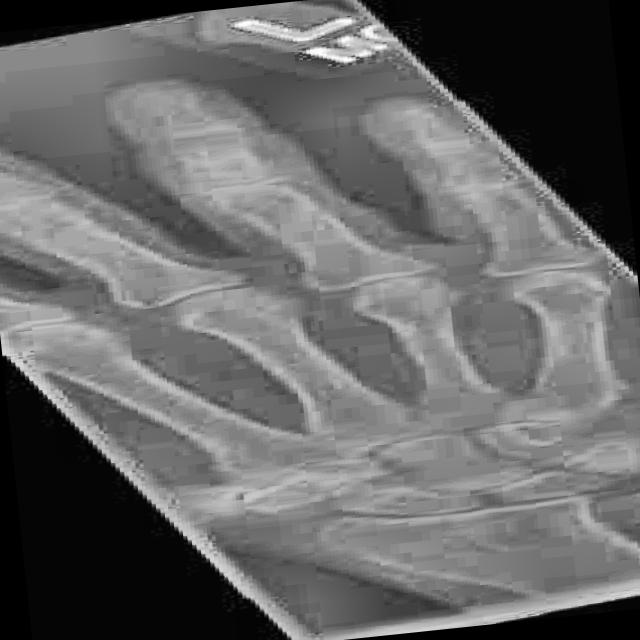fingers positive: (149, 132, 298, 178)
